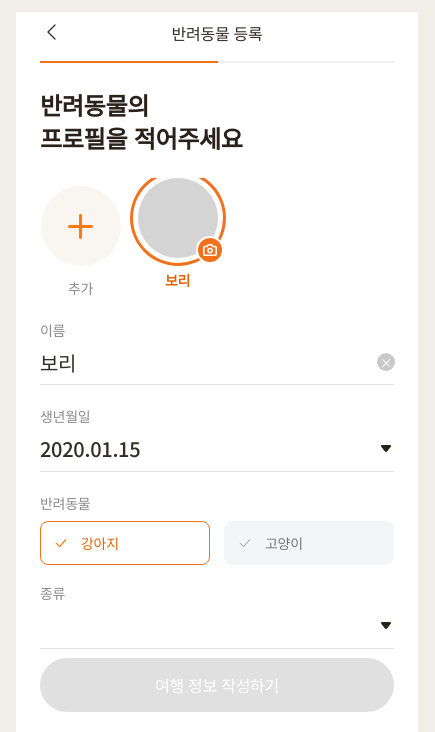
it: M02 반려동물 등록 › 목록에 없는 품종도 직접 입력할 수 있다
The width and height of the screenshot is (435, 732).
Type "우리집 믹스" into the dropdown labelled "종류" at (202, 626), box [40,606,364,646]
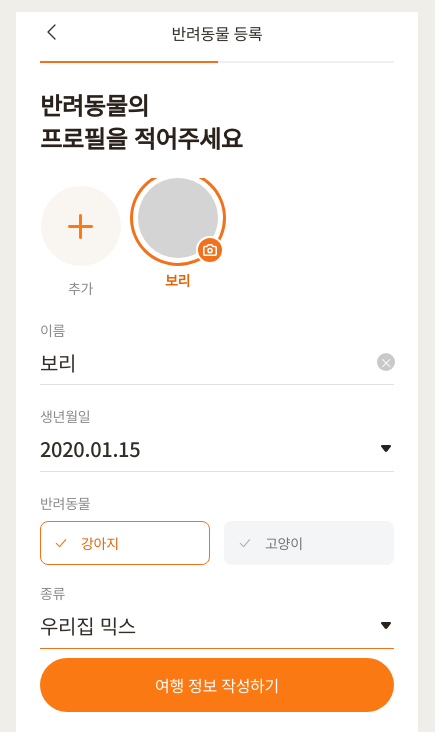
Check: the button "여행 정보 작성하기" is enabled, box [40,658,394,712]
